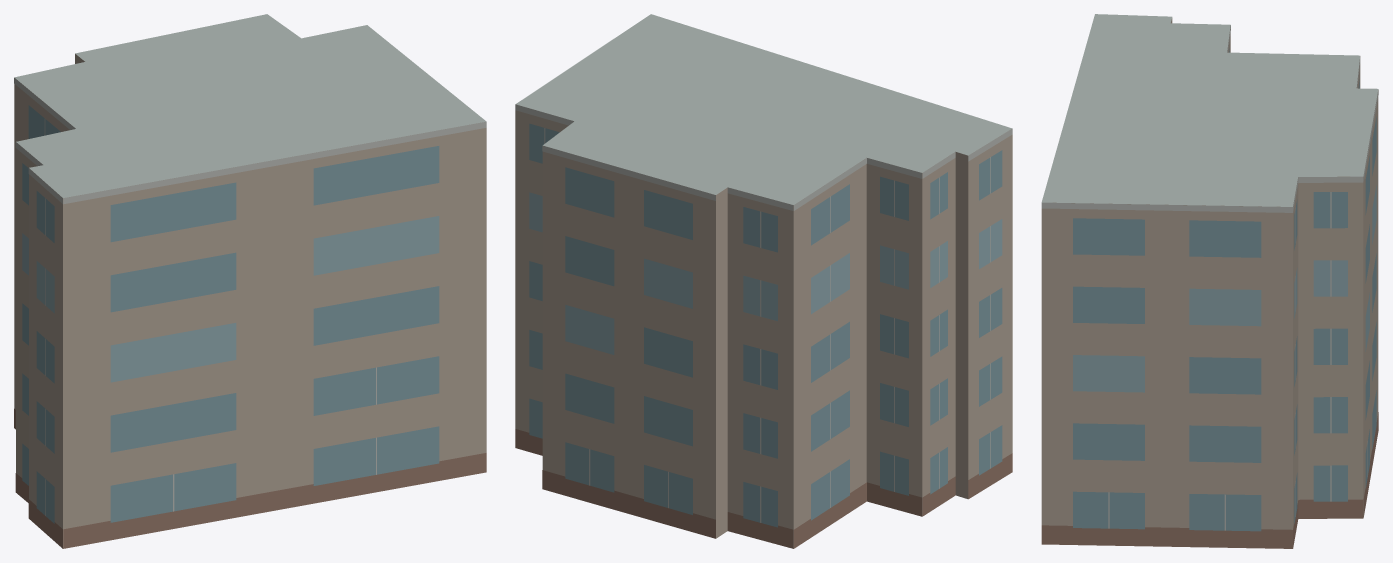
File: survey-upis-33001413.glb
3 renders of one model, left to right at view 1: azimuth 30°, elevation 25°; view 2: azimuth 150°, elevation 25°; view 3: azimuth 270°, elevation 25°, orthographic. The views are drawn at different scales.
Visible parts, largest first — view 1: survey-upis-33001413.tmp; view 2: survey-upis-33001413.tmp; view 3: survey-upis-33001413.tmp.
Boxes of the visible parts, box(x1,y1,x2,y2) form: survey-upis-33001413.tmp: box(14, 14, 486, 548); survey-upis-33001413.tmp: box(515, 14, 1012, 548); survey-upis-33001413.tmp: box(1041, 14, 1378, 548).
Bounding box in the file's own units: 16.96 × 14 × 12.51.
